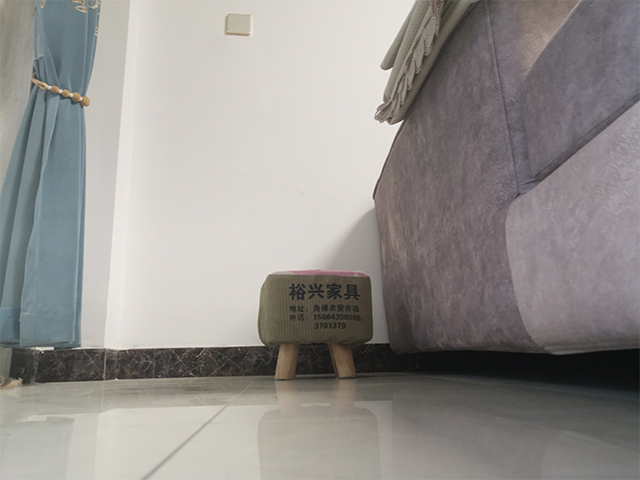curtain: (1, 1, 103, 355)
sofa: (371, 1, 639, 374)
stool: (257, 268, 376, 382)
